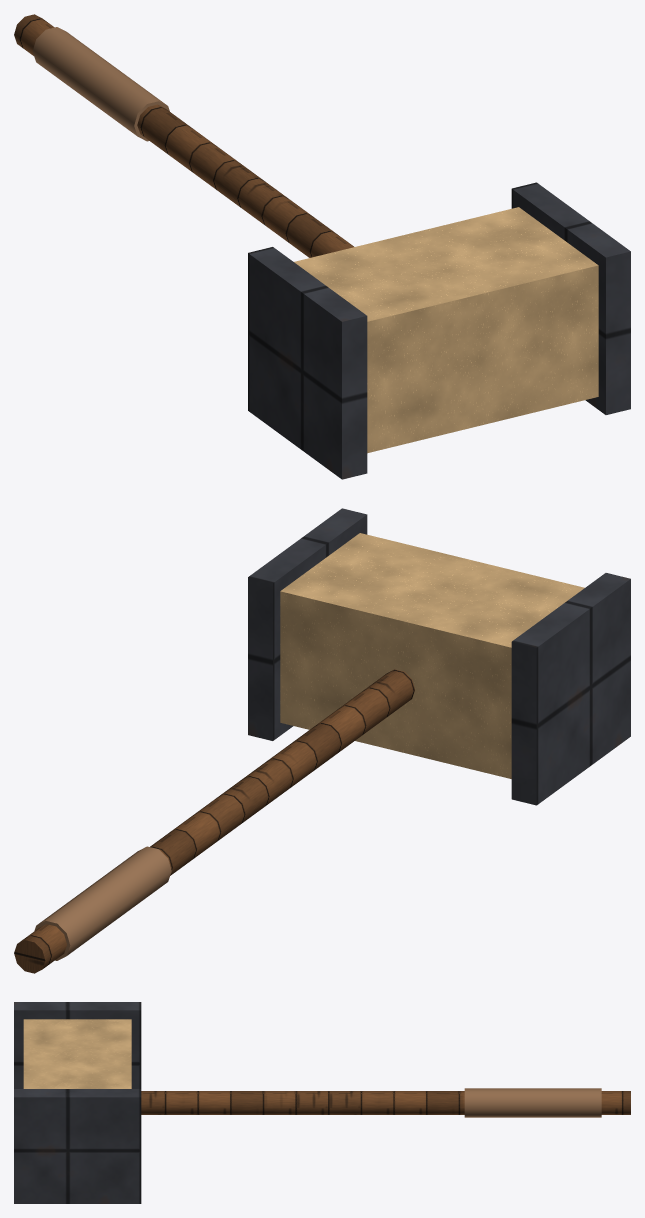
File: maul.glb
3 views of the same model, one above another, from view 1: azimuth 30°, elevation 25°; view 2: azimuth 150°, elevation 25°; view 3: azimuth 270°, elevation 25° (orthographic). The views are drawn at different scales.
Parts seen in each view (by area): view 1: maul; view 2: maul; view 3: maul.
Part boxes in pixels (<box>): maul: <box>14,14,630,479</box>; maul: <box>14,508,630,973</box>; maul: <box>14,1002,630,1203</box>.
Bounding box in the file's own units: 0.46 × 0.24 × 1.26.
4 materials, 3 textured.
